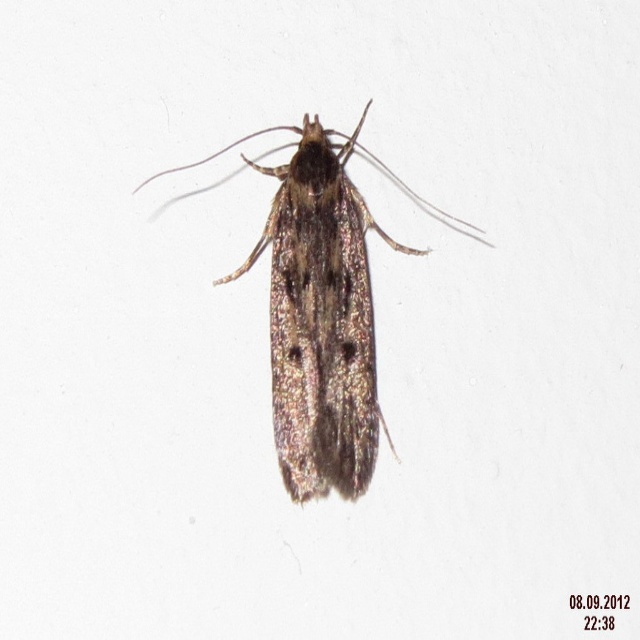Moths and butterflies: (129, 98, 488, 505)
